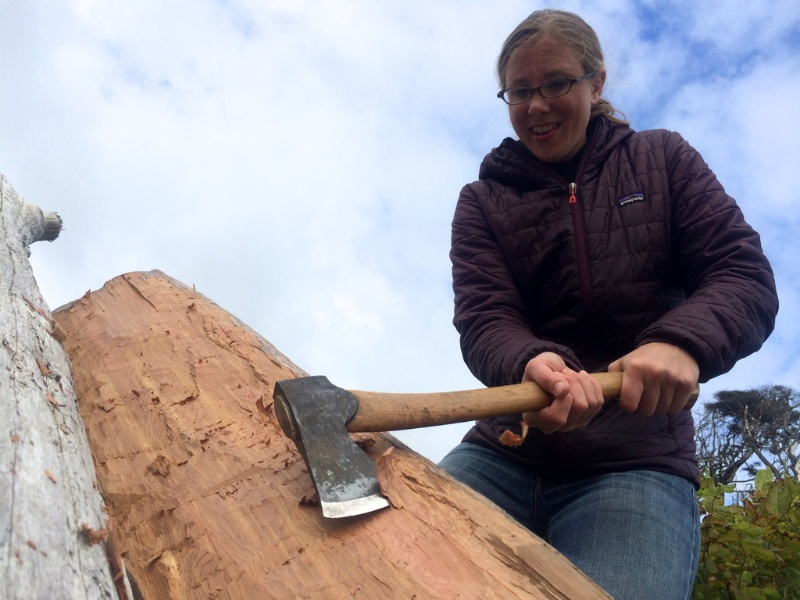axe: (266, 367, 459, 526)
